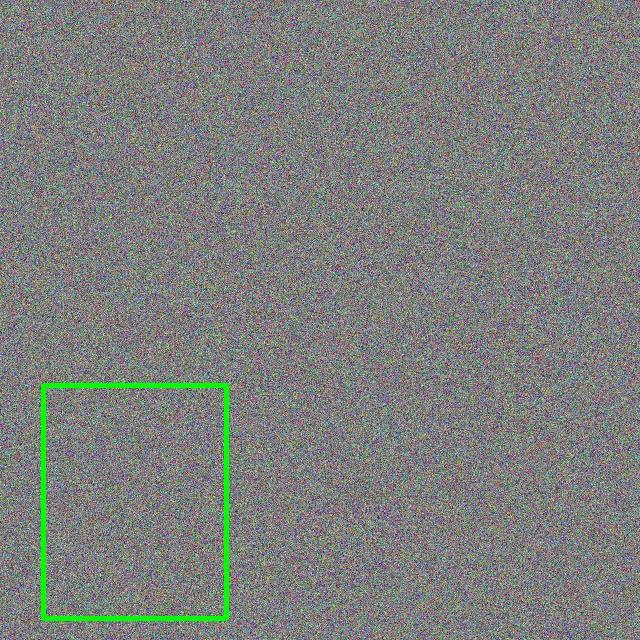base: (43, 385, 226, 618)
